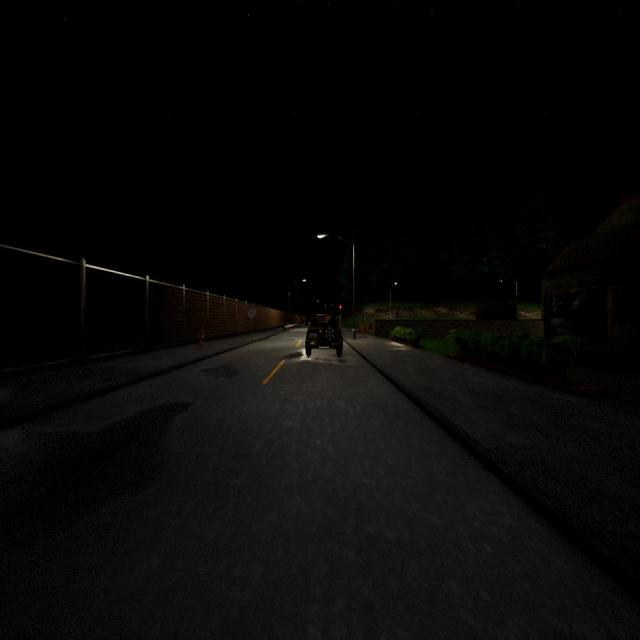Traffic_Signs: (248, 307, 256, 319)
Vehicle: (305, 314, 343, 357)
traffic_light: (339, 302, 342, 311)
